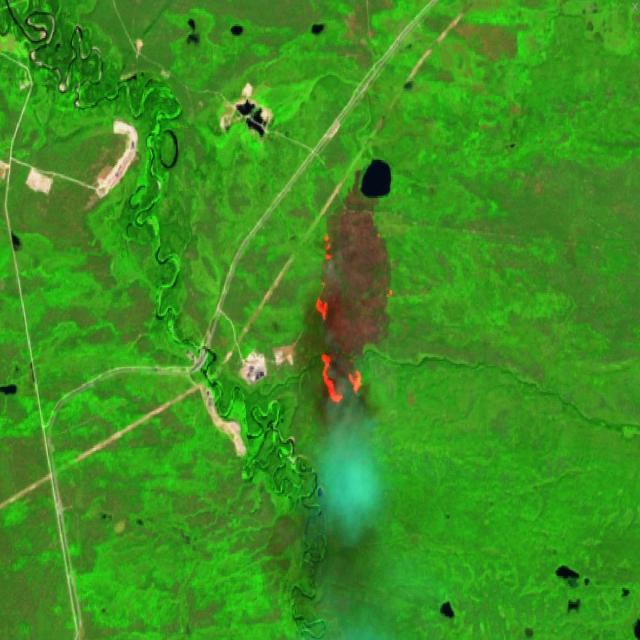fire: (311, 227, 385, 409)
